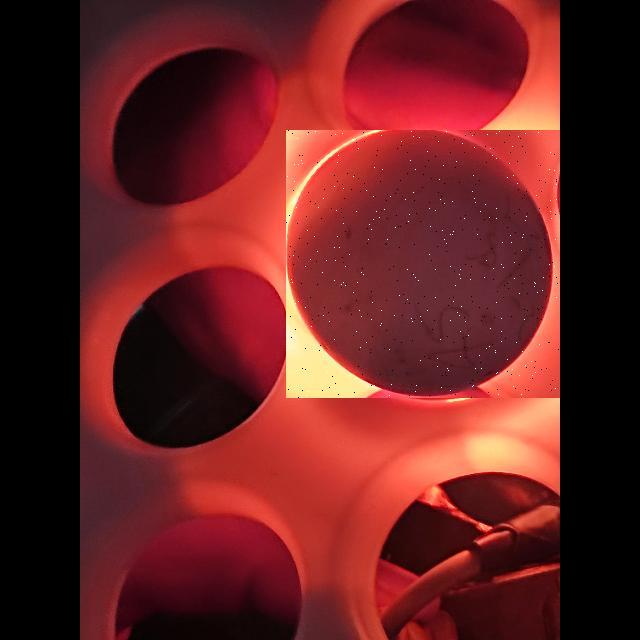Fertile: (286, 130, 560, 398)
